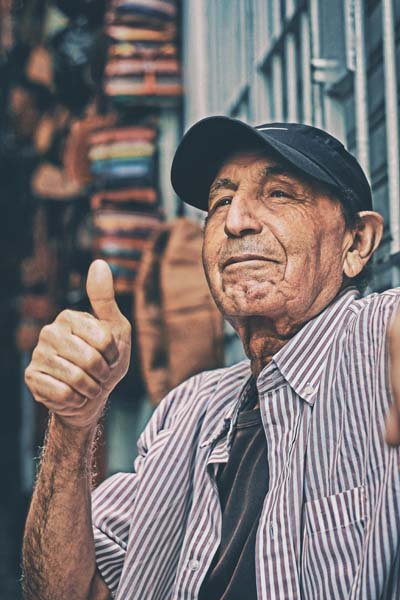Thumbs Up: (22, 254, 138, 421)
